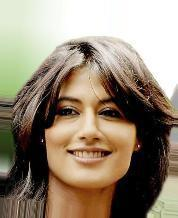face: (55, 96, 122, 164)
